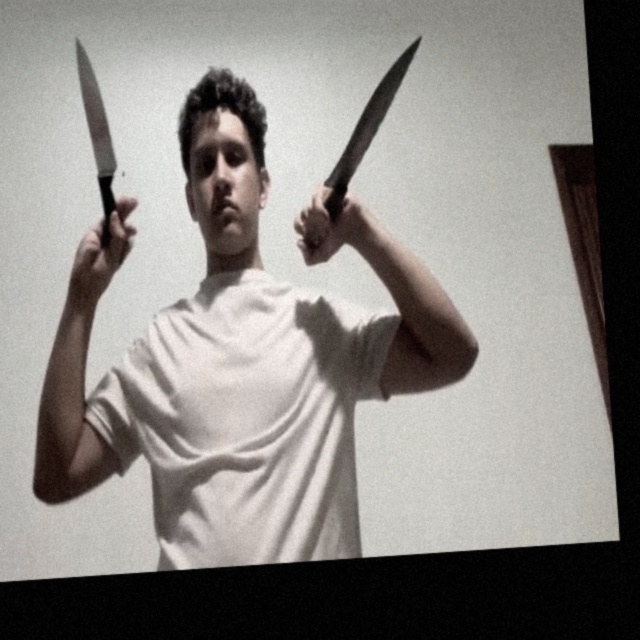Sharp-Object: (317, 38, 431, 187), (72, 32, 117, 171)
